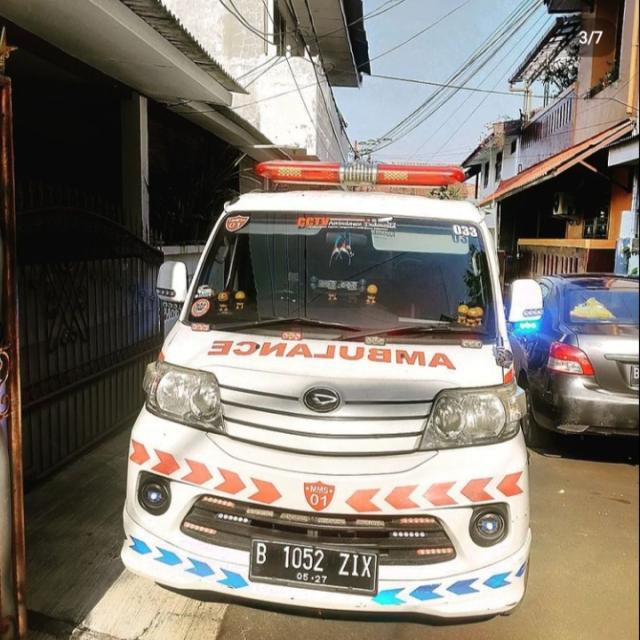emergency-vehicle: (122, 167, 538, 633)
